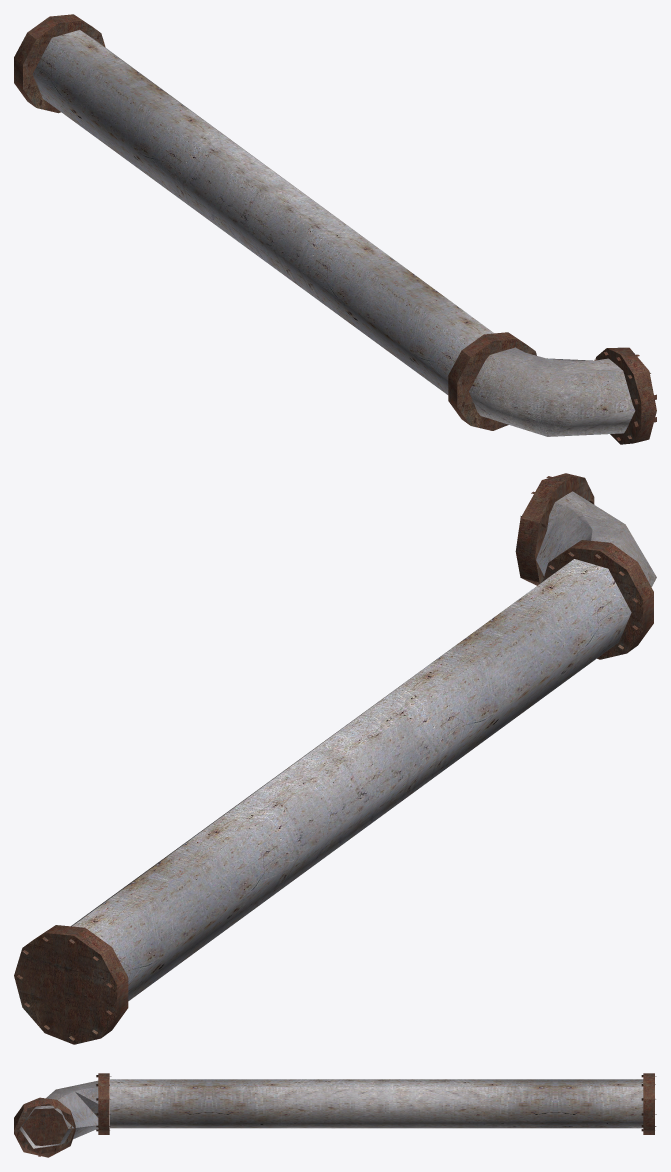
File: steigrohr_3_LOD1.obj
3 views of the same model, one above another, from view 1: azimuth 30°, elevation 25°; view 2: azimuth 150°, elevation 25°; view 3: azimuth 270°, elevation 25° (orthographic). The views are drawn at different scales.
Parts seen in each view (by area): view 1: MDL_Cylin1; view 2: MDL_Cylin1; view 3: MDL_Cylin1.
Boxes of the visible parts, x1,y1,x2,y2 form: MDL_Cylin1: [14, 14, 656, 444]; MDL_Cylin1: [14, 473, 656, 1044]; MDL_Cylin1: [14, 1073, 656, 1157].
Size of the model in its own units: 1.75 by 1.13 by 11.51.
Materials: 2 (2 with a texture image).
